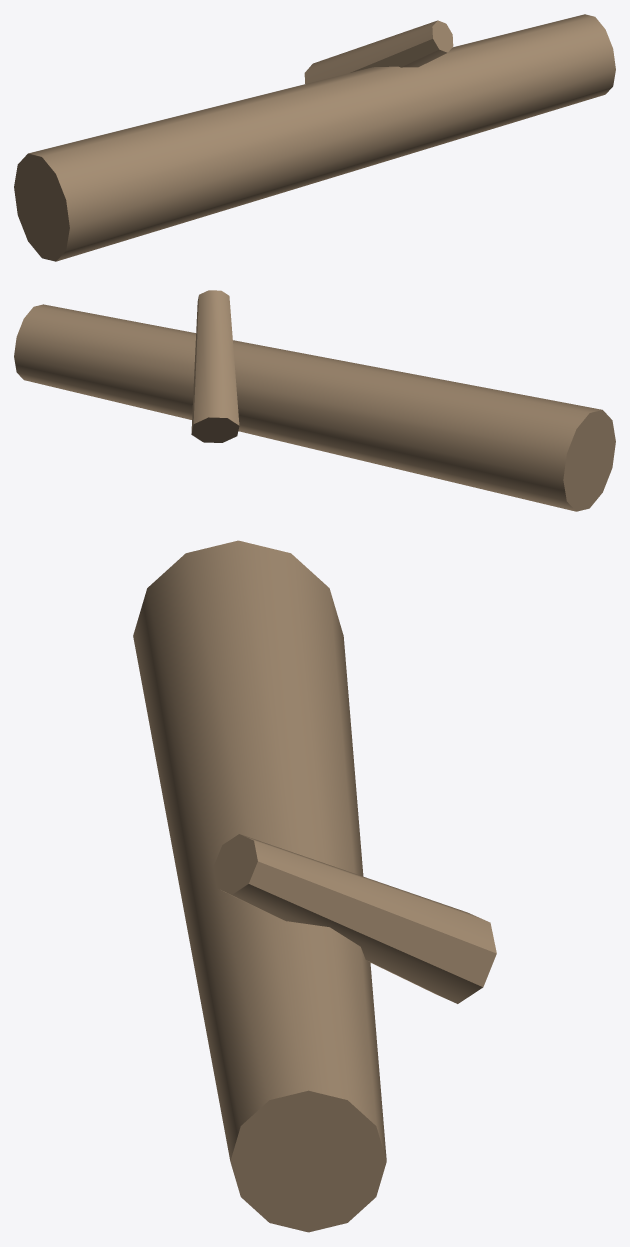
File: driftwood.glb
3 renders of one model, top to bottom at view 1: azimuth 30°, elevation 25°; view 2: azimuth 150°, elevation 25°; view 3: azimuth 270°, elevation 25°, orthographic. The views are drawn at different scales.
Visible parts, largest first — view 1: DriftwoodMesh; view 2: DriftwoodMesh; view 3: DriftwoodMesh.
Part boxes in pixels (box(x1,y1,x2,y2)): DriftwoodMesh: box(14, 14, 615, 261); DriftwoodMesh: box(14, 290, 615, 511); DriftwoodMesh: box(133, 540, 496, 1232).
Size of the model in its own units: 1.24 by 0.2844 by 0.3627.
